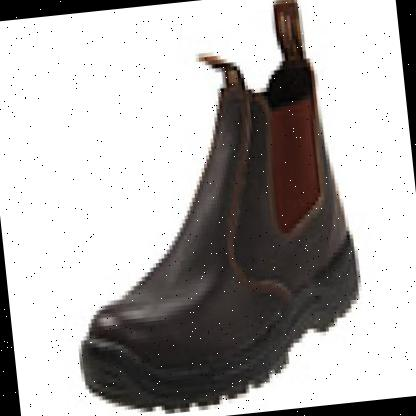bota: (44, 20, 374, 416)
